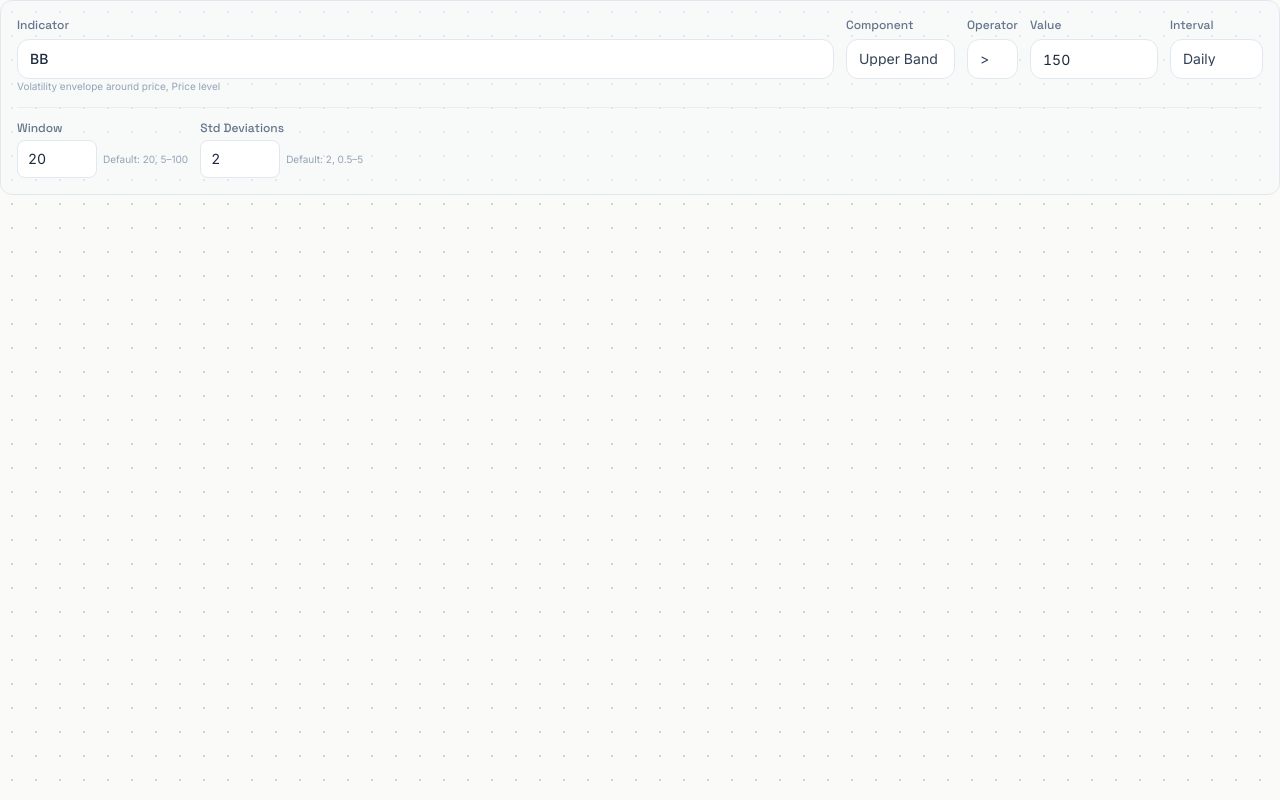
Test case: ConditionRow input validation › value input shows error for non-numeric text
Replace the text in the field labelled "Value" with "abc" at {"x": 1094, "y": 59}, box x1=1030 y1=39 x2=1158 y2=79
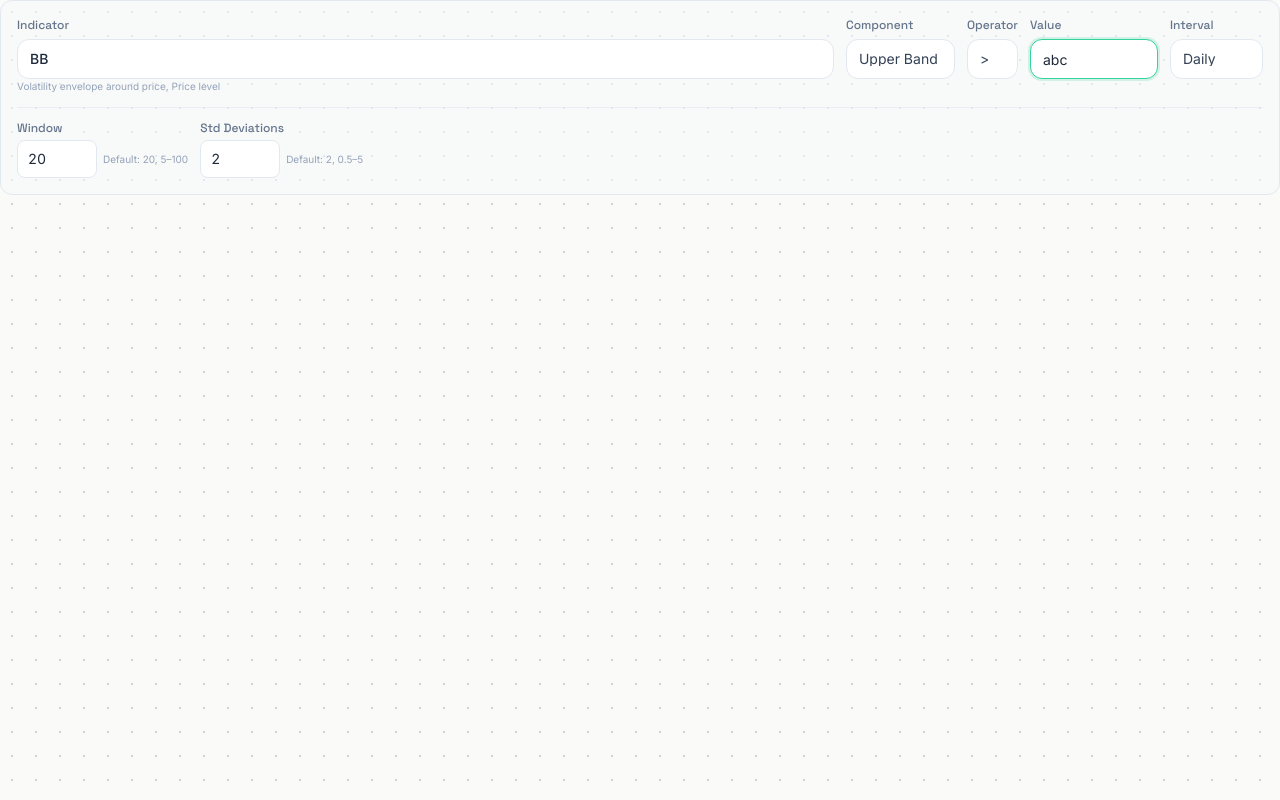
Leave the field labelled "Value", box x1=1030 y1=39 x2=1158 y2=79
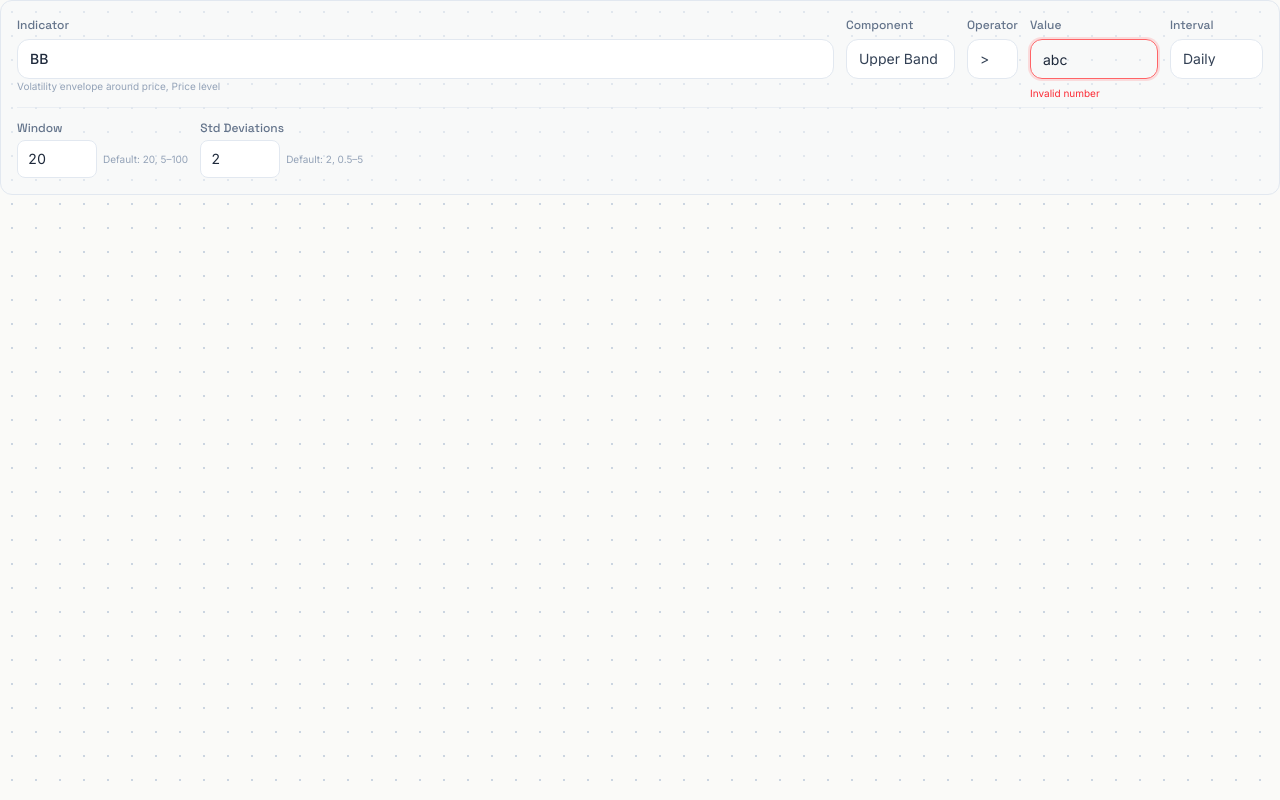
Expected: the text "Invalid number" is shown, x1=1030 y1=87 x2=1100 y2=99
